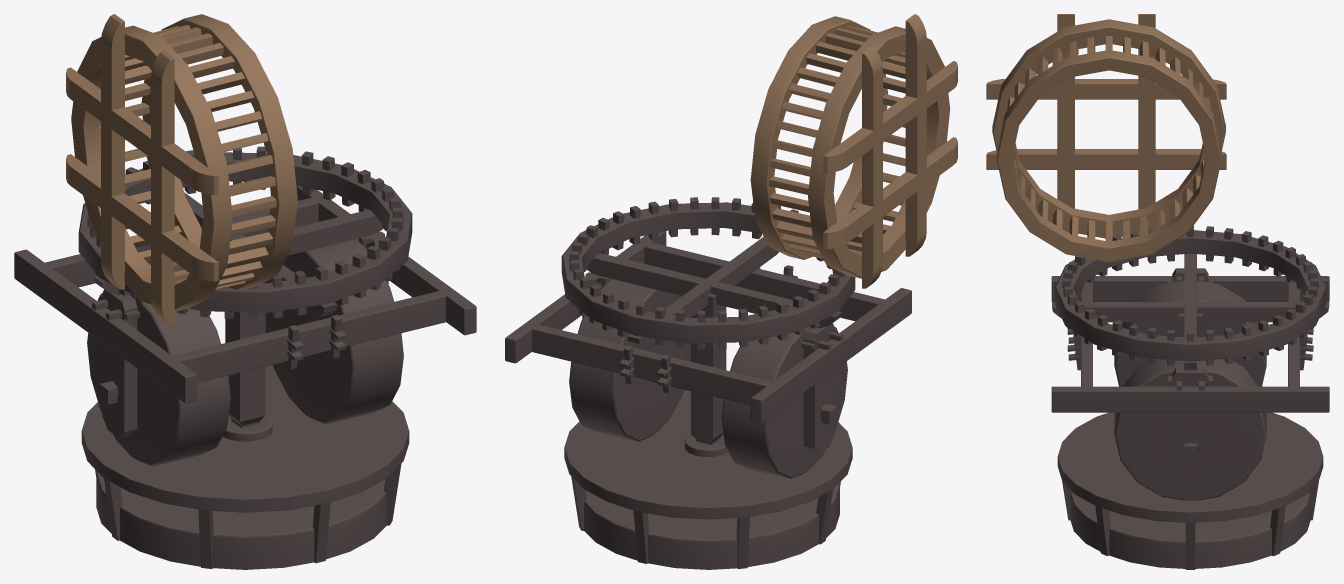
Rendered from GrinderFinal19JUNE 1.fbx.
3 renders of one model, left to right at view 1: azimuth 30°, elevation 25°; view 2: azimuth 150°, elevation 25°; view 3: azimuth 270°, elevation 25°, orthographic. The views are drawn at different scales.
Parts seen in each view (by area): view 1: Grinder_A, Base_LowPoly, Grinder_B, Wheel_B, Wheel_A, Plank_C2, Plank_C3, Plank_C1, Plank_C; view 2: Grinder_A, Base_LowPoly, Grinder_B, Wheel_B, Wheel_A, Plank_C2, Plank_C3, Plank_C1, Plank_C; view 3: Grinder_A, Base_LowPoly, Grinder_B, Wheel_B, Wheel_A, Plank_C, Plank_C1, Plank_C3, Plank_C2.
Boxes of the visible parts, x1,y1,x2,y2 form: Grinder_A: (14, 146, 476, 437); Base_LowPoly: (81, 365, 409, 569); Grinder_B: (71, 14, 297, 311); Wheel_B: (265, 239, 403, 424); Wheel_A: (87, 293, 230, 466); Plank_C2: (151, 50, 174, 326); Plank_C3: (101, 14, 124, 289); Plank_C1: (66, 67, 218, 195); Plank_C: (66, 154, 218, 281); Grinder_A: (505, 197, 911, 453); Base_LowPoly: (564, 389, 852, 569); Grinder_B: (750, 16, 950, 278); Wheel_B: (569, 278, 690, 441); Wheel_A: (721, 326, 847, 478); Plank_C2: (905, 14, 926, 256); Plank_C3: (862, 46, 882, 288); Plank_C1: (823, 61, 957, 173); Plank_C: (823, 137, 957, 249); Grinder_A: (1051, 226, 1329, 485); Base_LowPoly: (1057, 412, 1323, 569); Grinder_B: (992, 19, 1225, 262); Wheel_B: (1114, 358, 1266, 500); Wheel_A: (1114, 280, 1266, 386); Plank_C: (986, 149, 1226, 169); Plank_C1: (986, 79, 1226, 99); Plank_C3: (1138, 14, 1155, 209); Plank_C2: (1057, 14, 1074, 232).
Bounding box in the file's own units: 2.44 × 4.05 × 2.84.
